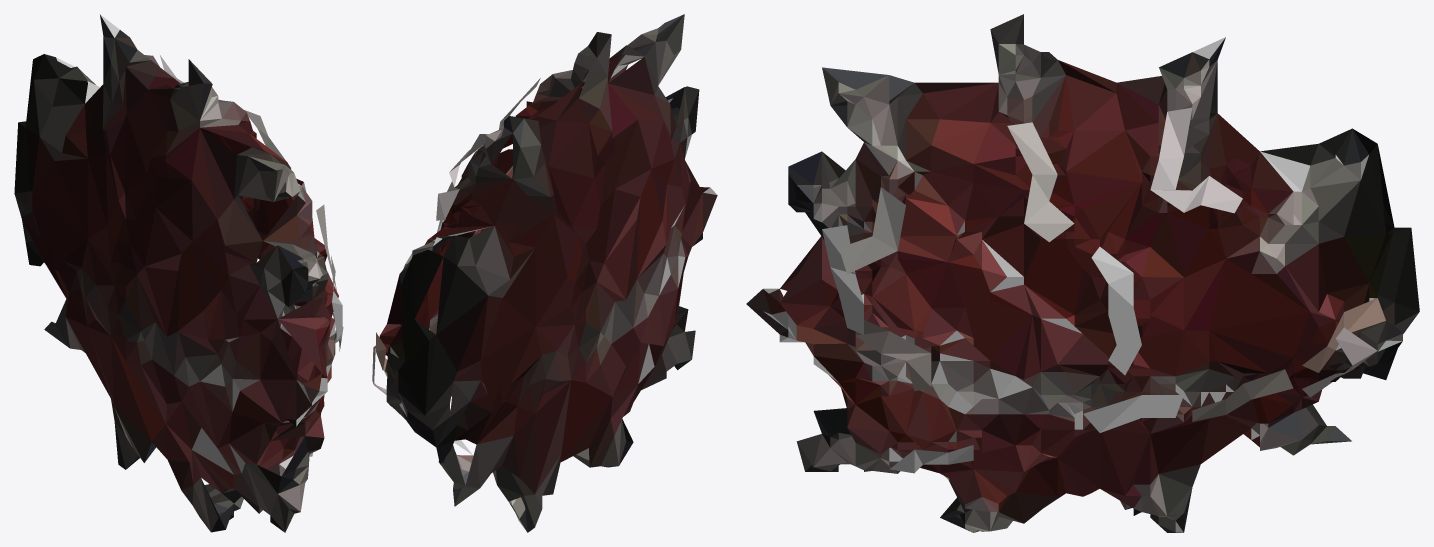
File: B14_6_crimson_spiked_roundshield.obj
The picture shows the model from 3 angles, left to right: view 1: azimuth 30°, elevation 25°; view 2: azimuth 150°, elevation 25°; view 3: azimuth 270°, elevation 25°; orthographic projection. The views are drawn at different scales.
Visible parts, largest first — view 1: B14_6_crimson_spiked_roundshield; view 2: B14_6_crimson_spiked_roundshield; view 3: B14_6_crimson_spiked_roundshield.
Boxes of the visible parts, x1,y1,x2,y2 form: B14_6_crimson_spiked_roundshield: (14, 14, 343, 532); B14_6_crimson_spiked_roundshield: (372, 14, 717, 532); B14_6_crimson_spiked_roundshield: (746, 14, 1419, 532).
Bounding box in the file's own units: 22 × 68 × 80.
